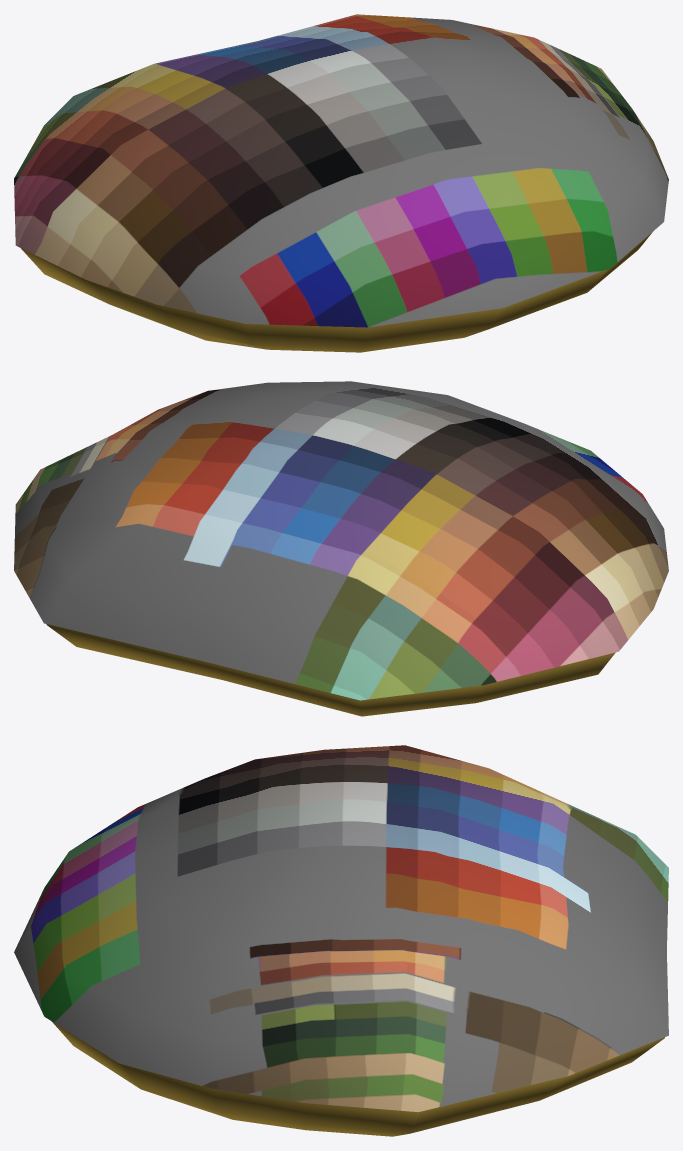
The model's file is Flower_Head.fbx.
The picture shows the model from 3 angles, top to bottom: view 1: azimuth 30°, elevation 25°; view 2: azimuth 150°, elevation 25°; view 3: azimuth 270°, elevation 25°; orthographic projection. The views are drawn at different scales.
Visible parts, largest first — view 1: Flower_Head_Layer, Flower_Head_Main; view 2: Flower_Head_Layer, Flower_Head_Main; view 3: Flower_Head_Layer, Flower_Head_Main.
Boxes of the visible parts, x1,y1,x2,y2 form: Flower_Head_Layer: (14, 14, 668, 327); Flower_Head_Main: (21, 232, 652, 352); Flower_Head_Layer: (14, 381, 668, 700); Flower_Head_Main: (46, 624, 615, 716); Flower_Head_Layer: (14, 745, 668, 1112); Flower_Head_Main: (52, 1021, 664, 1136).
Size of the model in its own units: 46.41 by 16.09 by 40.13.
